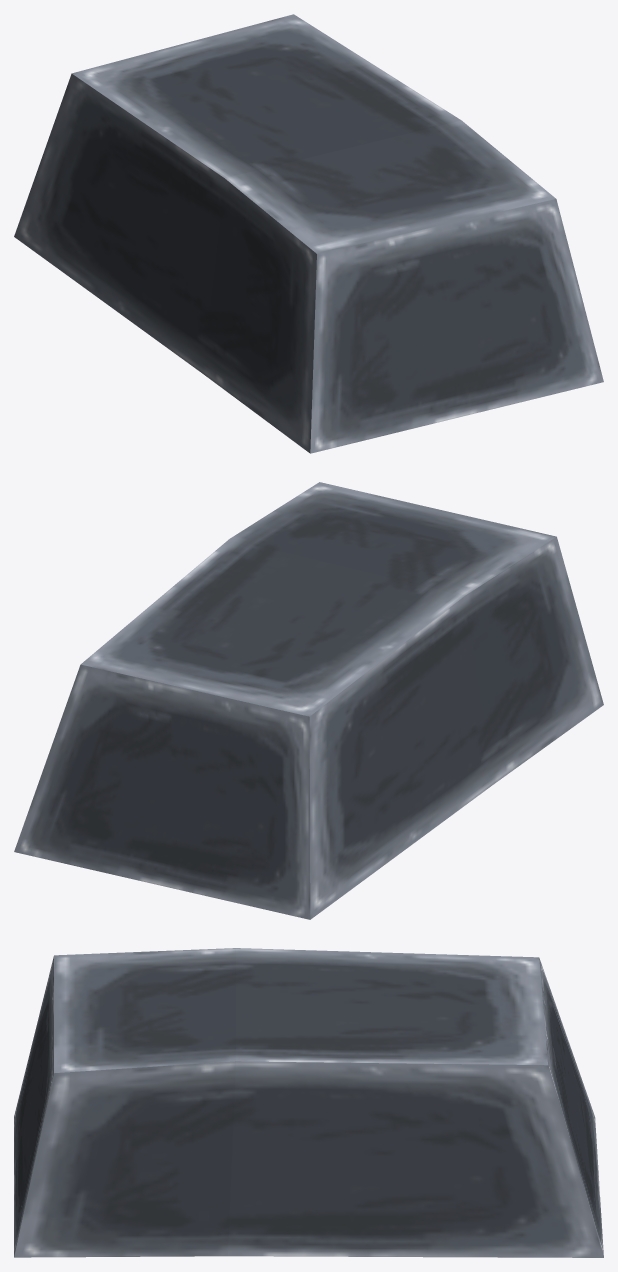
File: SM_PROP_ingot_steel_city.fbx
The picture shows the model from 3 angles, top to bottom: view 1: azimuth 30°, elevation 25°; view 2: azimuth 150°, elevation 25°; view 3: azimuth 270°, elevation 25°; orthographic projection.
Visible parts, largest first — view 1: SM_PROP_ingot_steel_city; view 2: SM_PROP_ingot_steel_city; view 3: SM_PROP_ingot_steel_city.
Part boxes in pixels (left/top/right/bottom): SM_PROP_ingot_steel_city: left=14, top=14, right=603, bottom=453; SM_PROP_ingot_steel_city: left=14, top=482, right=603, bottom=919; SM_PROP_ingot_steel_city: left=14, top=948, right=603, bottom=1257.
Bounding box in the file's own units: 17.95 × 10.83 × 31.78.
